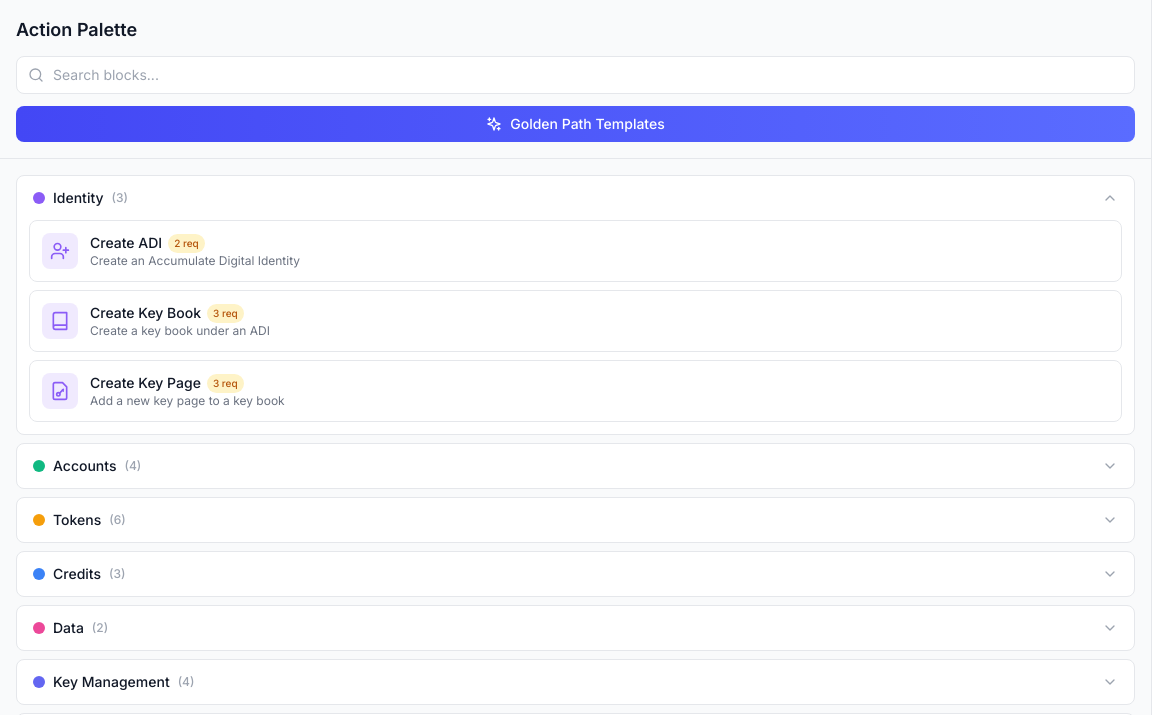
it: ActionPalette › filters blocks when searching
In the field with placeholder "Search blocks...": coordinates (576, 75) [16,56,1135,94], type "faucet"
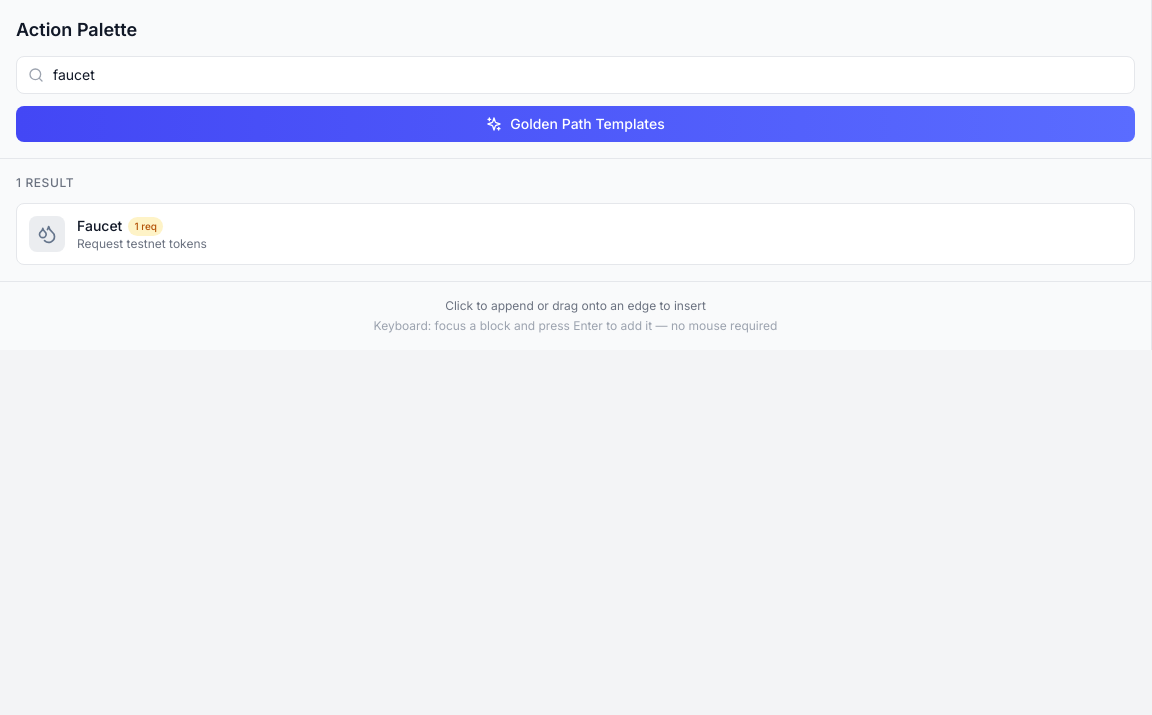
Check: the text "1 result" is shown, box [16,175,74,190]
